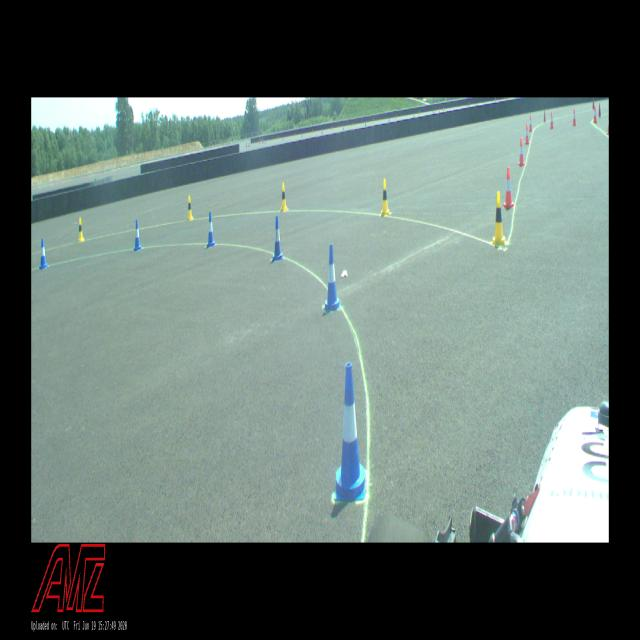blue_cone: (334, 363, 367, 500), (324, 244, 341, 312), (272, 216, 283, 261), (207, 212, 215, 248), (134, 220, 142, 250), (40, 239, 48, 269)
orange_cone: (504, 168, 514, 210), (518, 138, 525, 166), (524, 124, 530, 145), (572, 108, 576, 126), (550, 112, 554, 129), (593, 107, 597, 123), (529, 115, 532, 132), (606, 116, 608, 135), (544, 110, 546, 122)
yellow_cone: (491, 192, 506, 246), (381, 179, 389, 216), (281, 183, 287, 211), (78, 217, 84, 241), (188, 195, 193, 220)
